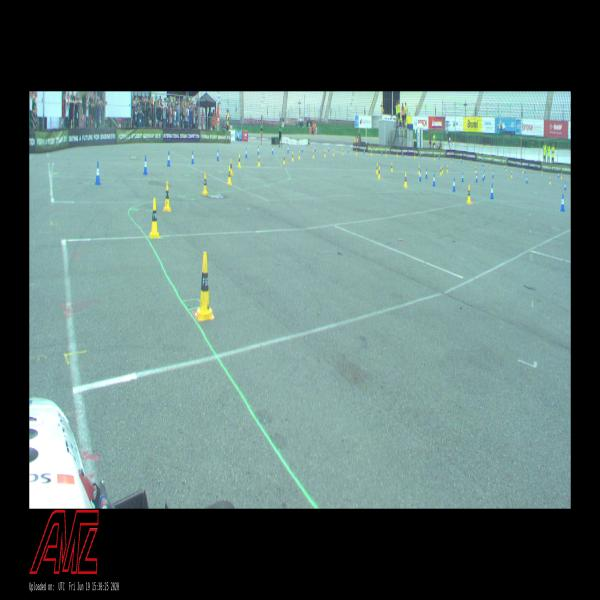blue_cone: (95, 162, 101, 185), (143, 156, 148, 175), (560, 194, 565, 212), (166, 151, 170, 167), (490, 184, 494, 199), (452, 178, 456, 192), (432, 174, 436, 186), (216, 149, 220, 161), (191, 151, 194, 164), (475, 172, 478, 183), (425, 168, 428, 179), (461, 172, 464, 182), (245, 148, 248, 158), (419, 169, 421, 181), (272, 145, 274, 154), (257, 146, 259, 155), (492, 170, 494, 178), (287, 145, 289, 153), (526, 176, 528, 183), (314, 145, 316, 152), (482, 173, 484, 180), (328, 146, 330, 152), (438, 154, 440, 159), (565, 182, 566, 190), (484, 171, 485, 179), (460, 158, 462, 162), (402, 152, 404, 156), (482, 162, 484, 166), (302, 145, 303, 152), (347, 148, 348, 154), (558, 173, 559, 178), (382, 150, 383, 155), (420, 153, 421, 158), (524, 169, 525, 173), (364, 148, 364, 154), (505, 166, 505, 170), (543, 172, 543, 176)
yellow_cone: (195, 252, 214, 321), (149, 198, 160, 238), (163, 182, 172, 212), (202, 172, 209, 195), (466, 185, 471, 204), (227, 166, 232, 184), (229, 159, 233, 176), (404, 172, 407, 188), (238, 155, 241, 167), (378, 166, 380, 178), (376, 163, 378, 174), (284, 154, 286, 164), (292, 151, 294, 161), (418, 164, 420, 174), (391, 162, 393, 172), (258, 156, 260, 166), (312, 149, 314, 158), (440, 166, 442, 175), (298, 150, 300, 158), (324, 150, 326, 158), (549, 177, 551, 184), (446, 165, 448, 172), (510, 171, 512, 178), (396, 150, 398, 157), (385, 150, 387, 157), (470, 160, 472, 166), (522, 168, 524, 172), (450, 158, 452, 162), (442, 165, 443, 173), (333, 149, 334, 156), (475, 166, 476, 173), (371, 149, 372, 156), (342, 149, 343, 155), (356, 149, 357, 155), (561, 173, 562, 179), (434, 154, 435, 160), (414, 152, 415, 158), (489, 163, 490, 168), (541, 171, 542, 176), (506, 166, 506, 170)
